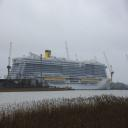cruises: (8, 50, 113, 93)
